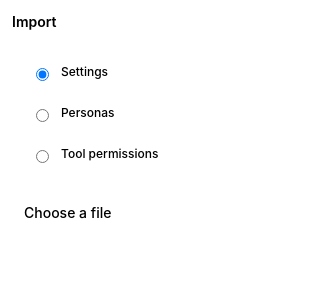
Scenario: an empty file is refused
What coordinates should you click on to do the following:
click the button "Choose a file"
I would click on:
 (68, 213)
Its box is [12,195,123,231].
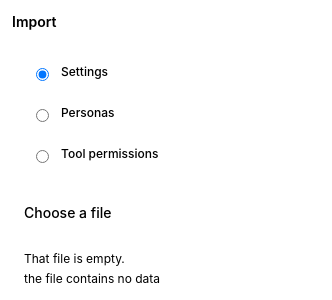
Check: the message with test id "portable-import-rejection" shows "That file is empty.", box [24,251,125,266]
